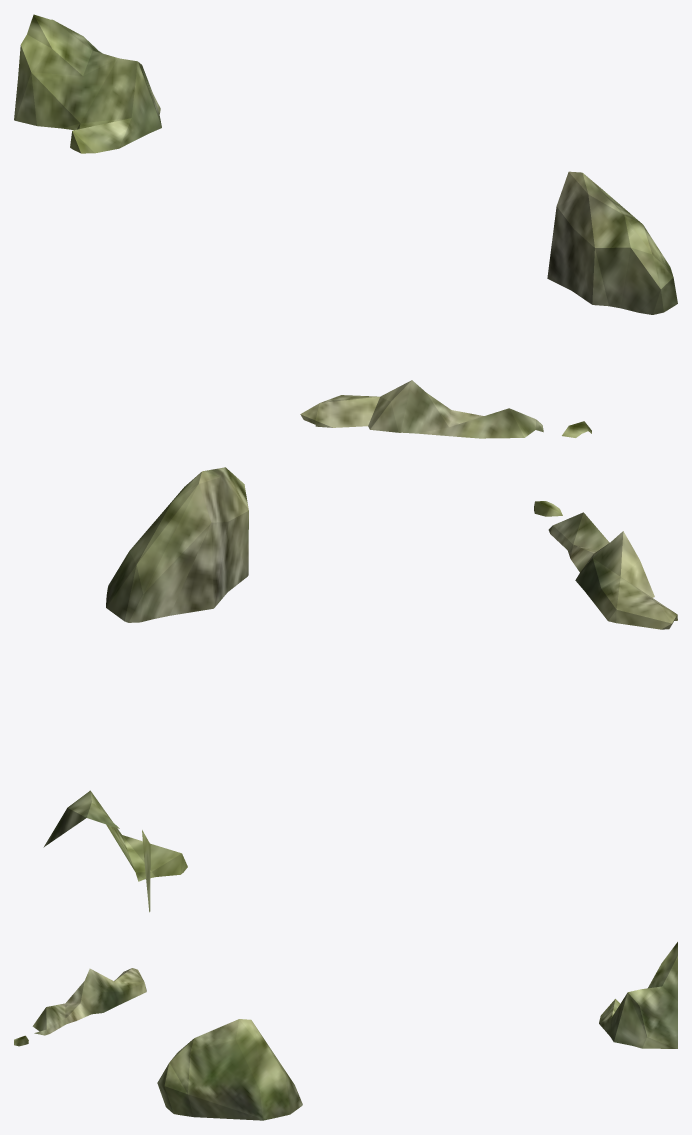
3 renders of one model, top to bottom at view 1: azimuth 30°, elevation 25°; view 2: azimuth 150°, elevation 25°; view 3: azimuth 270°, elevation 25°, orthographic. The views are drawn at different scales.
Size of the model in its own units: 3.08 by 0.7644 by 5.9.
Materials: 1 (1 with a texture image).
